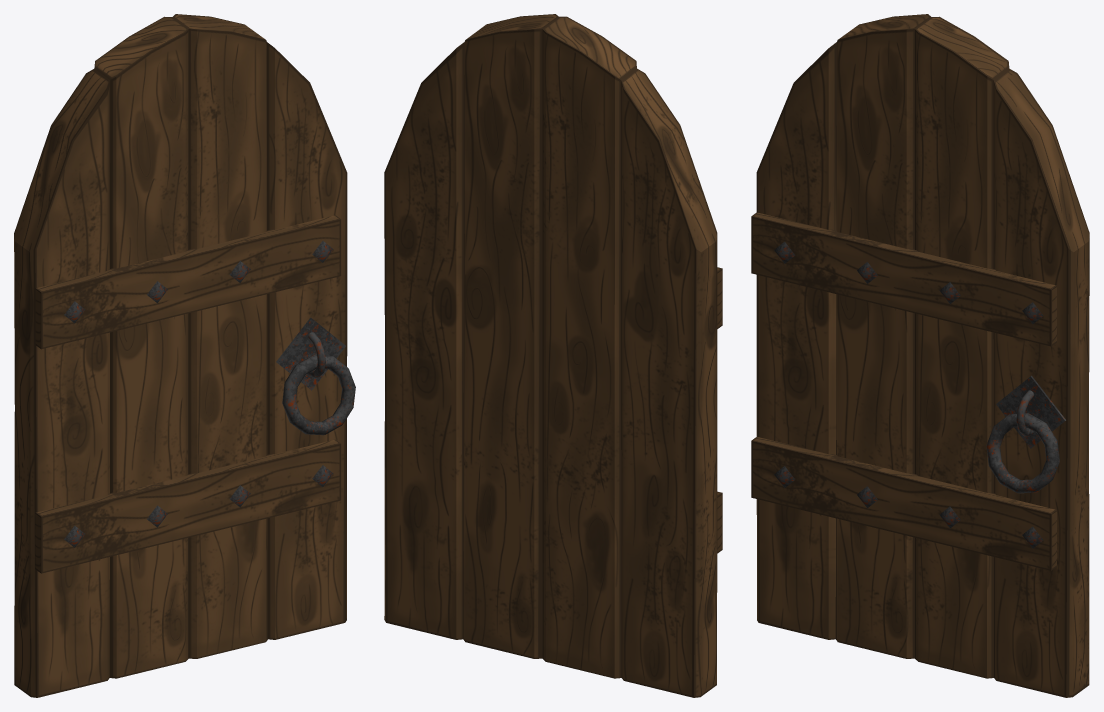
File: Object_Door.fbx
The picture shows the model from 3 angles, left to right: view 1: azimuth 30°, elevation 25°; view 2: azimuth 150°, elevation 25°; view 3: azimuth 330°, elevation 25°; orthographic projection.
Parts seen in each view (by area): view 1: pCube14; view 2: pCube14; view 3: pCube14.
Part boxes in pixels (bbox=[...]): pCube14: bbox=[14, 14, 355, 697]; pCube14: bbox=[384, 14, 722, 697]; pCube14: bbox=[751, 14, 1089, 697].
Size of the model in its own units: 1.93 by 3.67 by 0.3935.
